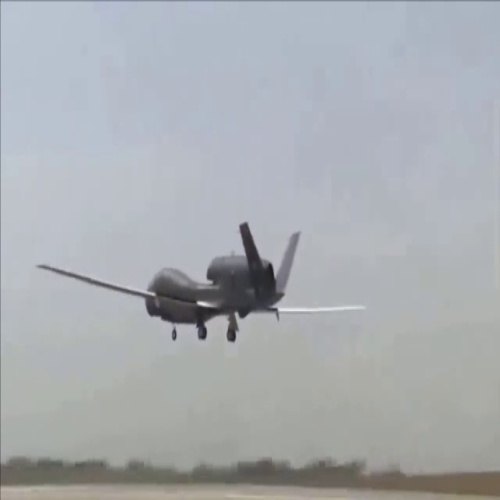uav913: (29, 218, 372, 347)
